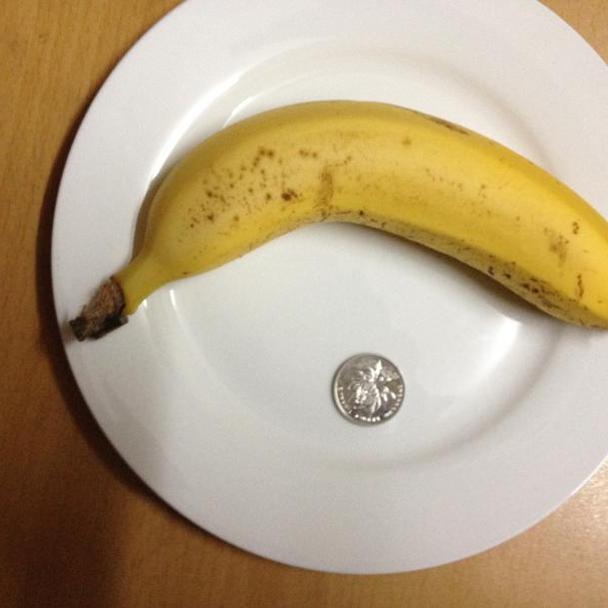banana: (64, 100, 608, 344)
